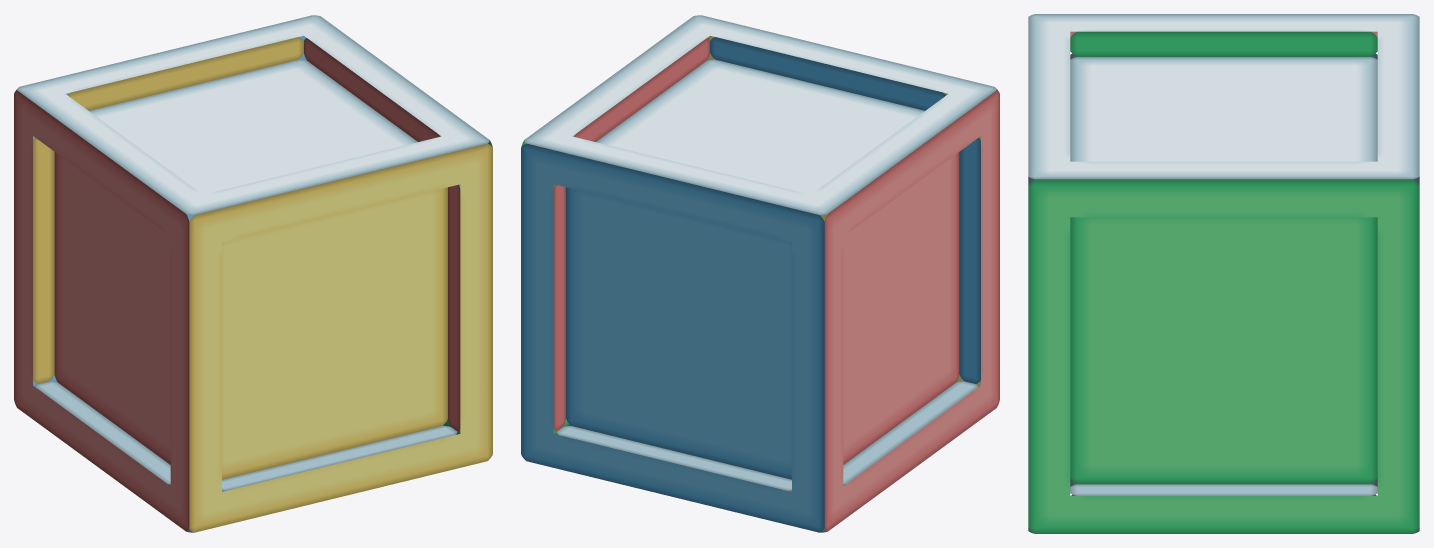
The model's file is crate_s.obj.
3 renders of one model, left to right at view 1: azimuth 30°, elevation 25°; view 2: azimuth 150°, elevation 25°; view 3: azimuth 270°, elevation 25°, orthographic. The views are drawn at different scales.
Visible parts, largest first — view 1: cuboid; view 2: cuboid; view 3: cuboid.
Boxes of the visible parts, box(x1,y1,x2,y2) form: cuboid: box(14, 15, 492, 532); cuboid: box(521, 15, 999, 532); cuboid: box(1028, 14, 1419, 533).
Bounding box in the file's own units: 0.875 × 0.875 × 0.875.
1 material, 1 textured.
